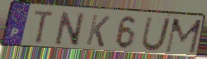6: (115, 15, 138, 51)
K: (84, 13, 112, 49)
M: (163, 18, 204, 56)
N: (54, 10, 86, 47)
T: (32, 9, 56, 45)
U: (140, 17, 173, 53)
